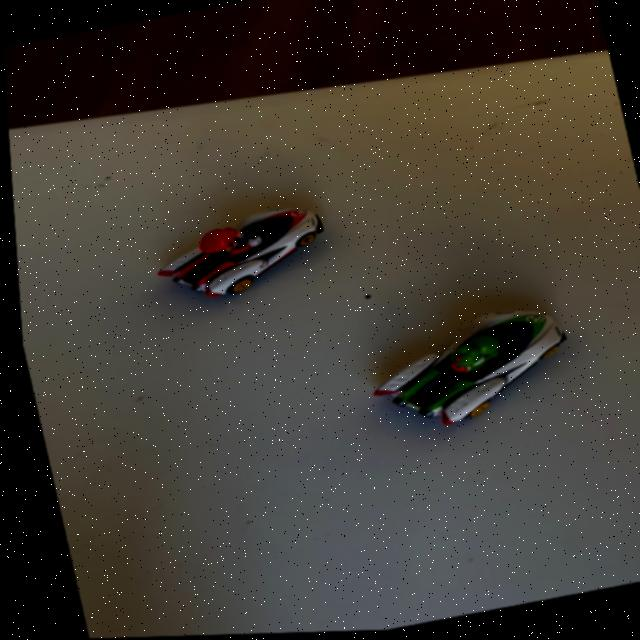mario: (125, 193, 345, 318)
yoshi: (339, 300, 595, 454)
